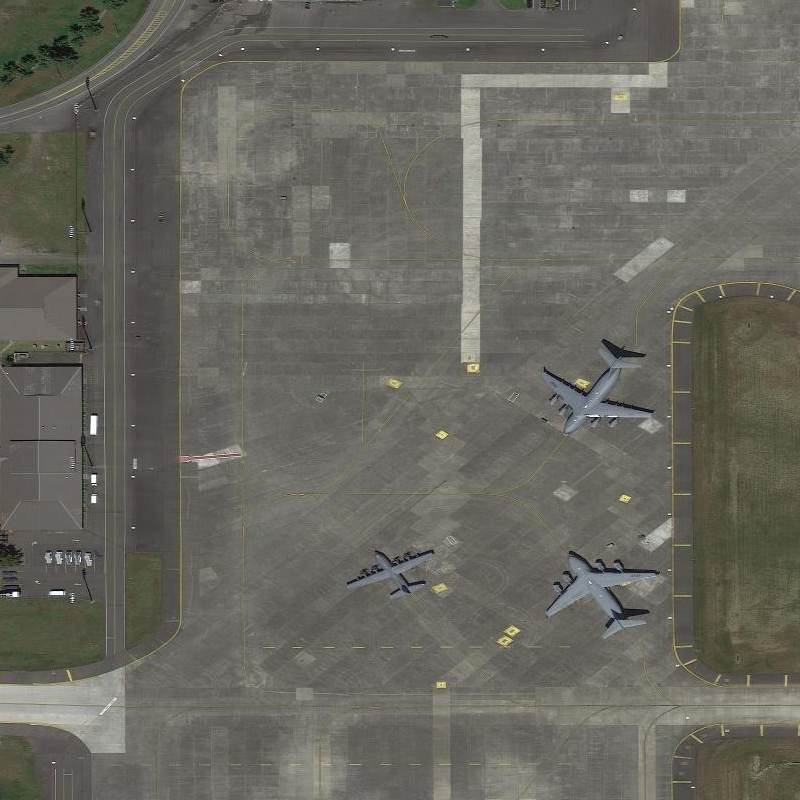A2: (344, 539, 438, 607)
A3: (534, 332, 661, 439), (539, 544, 663, 646)
